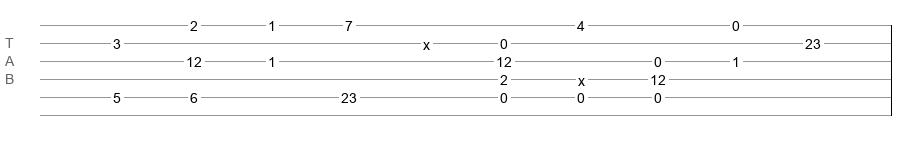0: (500, 36, 508, 46), (500, 90, 508, 100), (577, 90, 585, 100), (654, 90, 662, 100), (654, 54, 662, 64), (732, 18, 740, 28)
1: (268, 54, 276, 64), (268, 18, 276, 28), (732, 54, 740, 64)
12: (186, 54, 202, 64), (496, 54, 512, 64), (650, 72, 666, 82)
2: (190, 18, 198, 28), (500, 72, 508, 82)
23: (341, 90, 357, 100), (805, 36, 821, 46)
3: (113, 36, 121, 46)
4: (577, 18, 585, 28)
5: (113, 90, 121, 100)
6: (190, 90, 198, 100)
7: (345, 18, 353, 28)
x: (423, 37, 430, 45), (578, 73, 585, 81)
